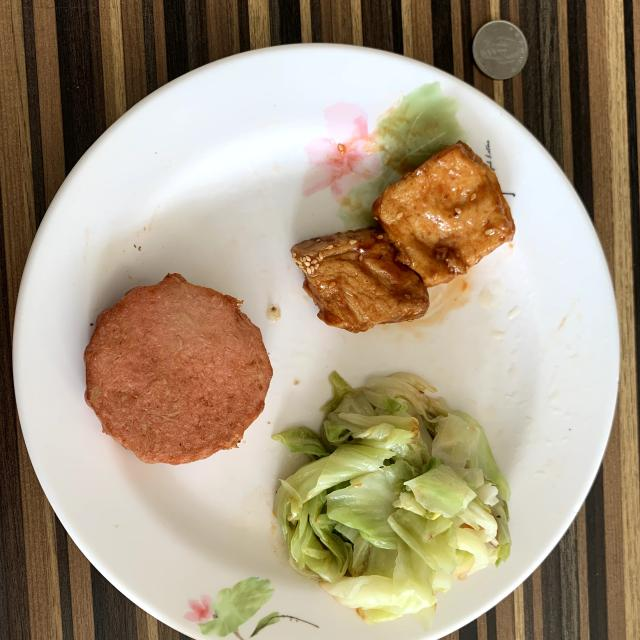Spam: (84, 274, 272, 464)
cabbage: (275, 371, 510, 630)
coin: (472, 20, 529, 80)
creamy tofu: (291, 141, 515, 332)
